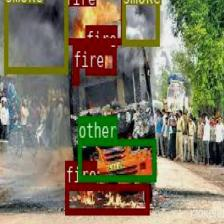fire: (65, 182, 149, 214), (64, 0, 124, 44), (85, 48, 115, 73), (72, 67, 78, 83)
smoke: (4, 0, 67, 72), (120, 0, 158, 44)
